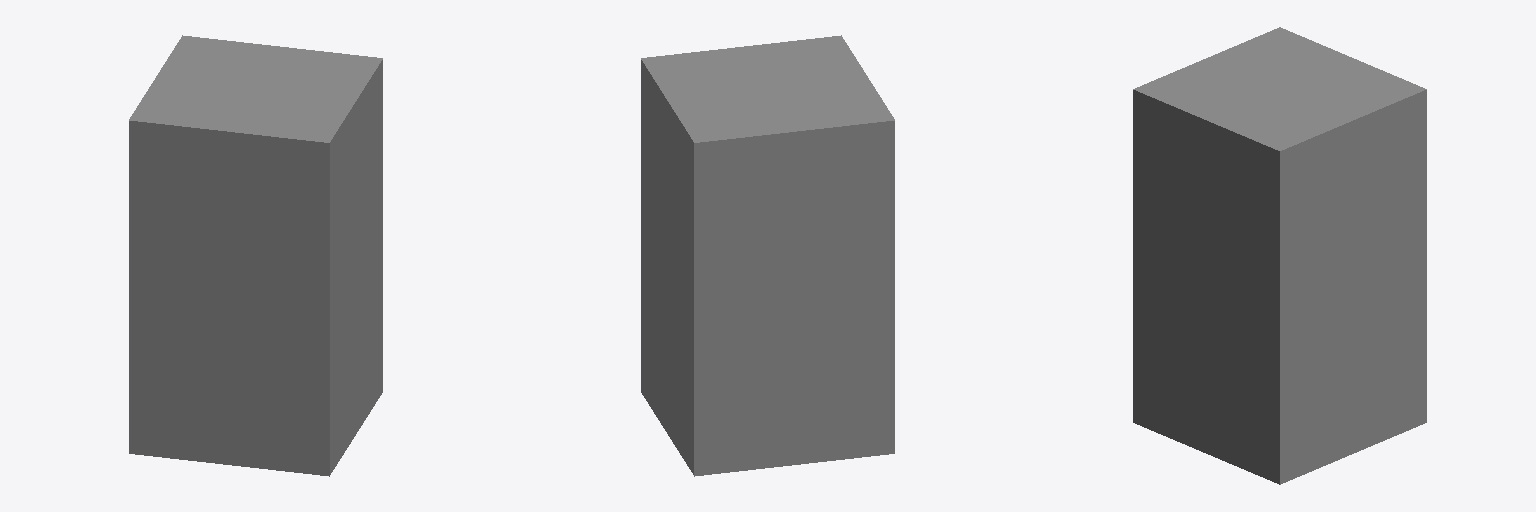
Rendered from Laser Sight.obj.
3 renders of one model, left to right at view 1: azimuth 30°, elevation 25°; view 2: azimuth 150°, elevation 25°; view 3: azimuth 270°, elevation 25°, orthographic.
Parts seen in each view (by area): view 1: Laser Sight; view 2: Laser Sight; view 3: Laser Sight.
Part boxes in pixels (x1,y1,x2,y2): Laser Sight: (129,35,382,476); Laser Sight: (641,35,894,476); Laser Sight: (1133,27,1426,484).
Bounding box in the file's own units: 8 × 10 × 8.